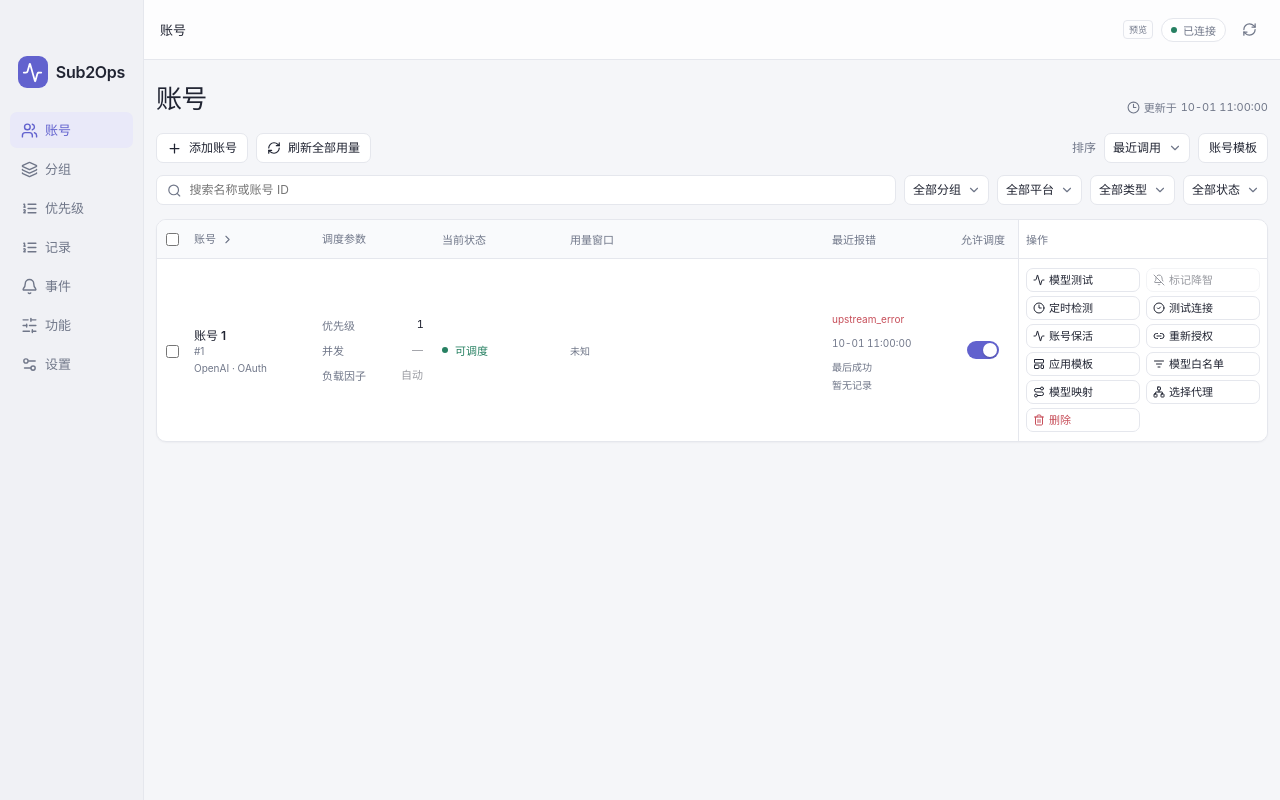
Test: main page surface ownership › unmounts records and events surfaces across repeated navigation
Click the button "记录" at (72, 247), box 10,229 -> 133,265
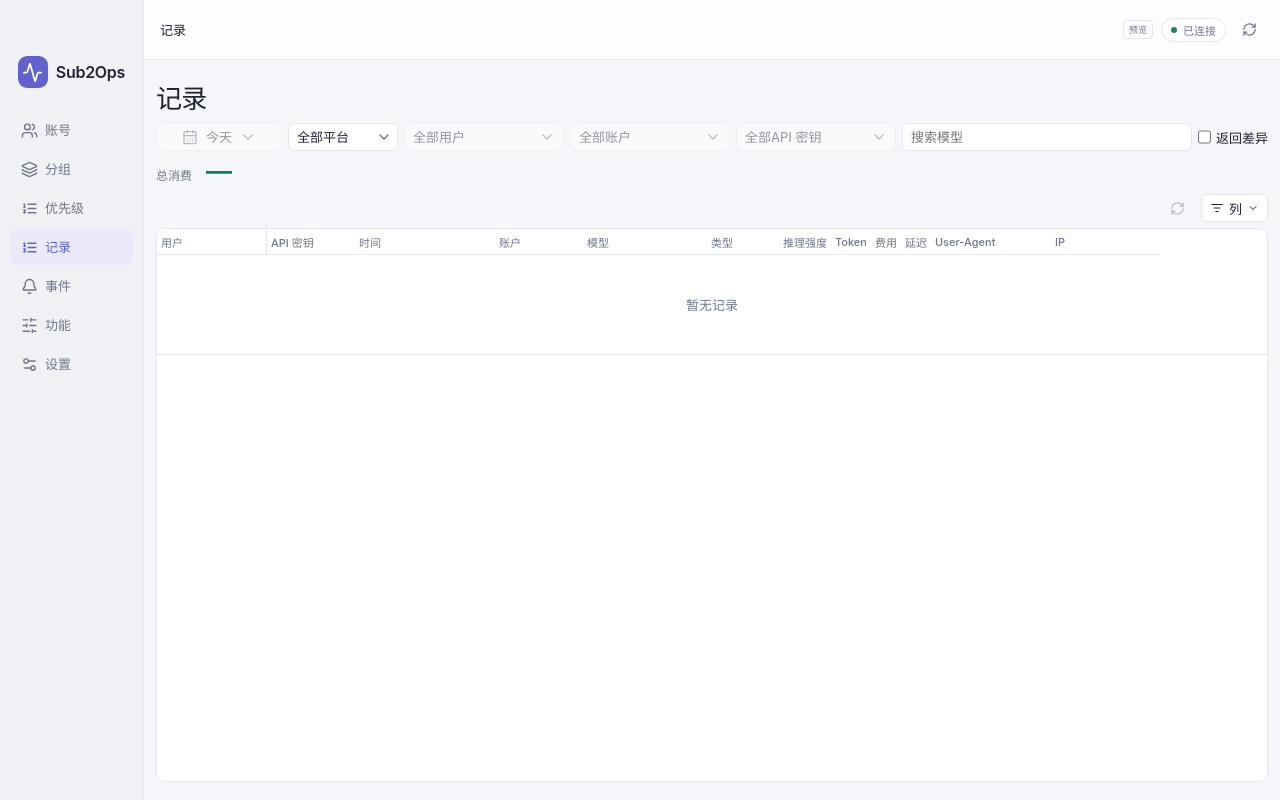
Expected: the number of elements with class "records-view" is 1
Click the button "事件" at (72, 286), box 10,268 -> 133,304
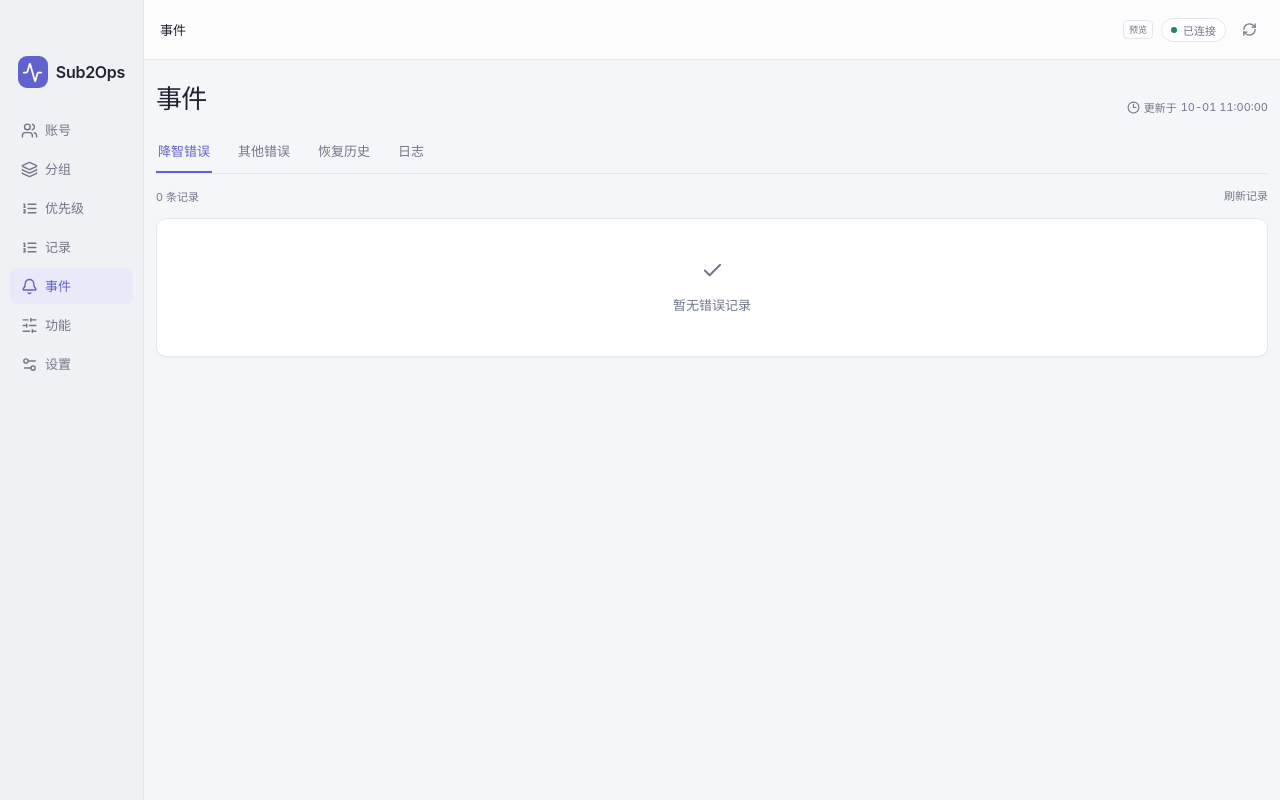
Expected: no elements with class "records-view" are shown
Expected: the number of elements with class "events-view" is 1, 156,133 -> 1268,357
Click the button "账号" at (72, 130), box 10,112 -> 133,148
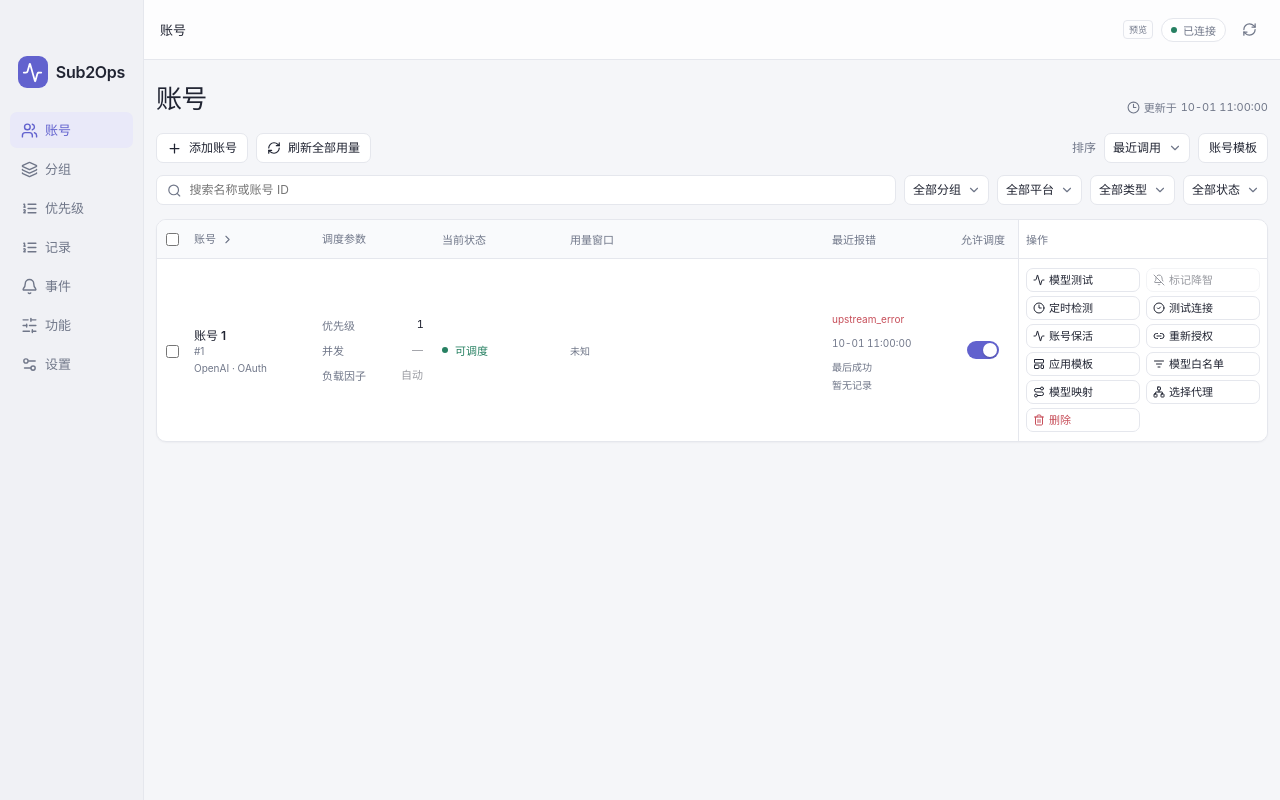
Expected: no elements with class "events-view" are shown
Click the button "记录" at (72, 247), box 10,229 -> 133,265
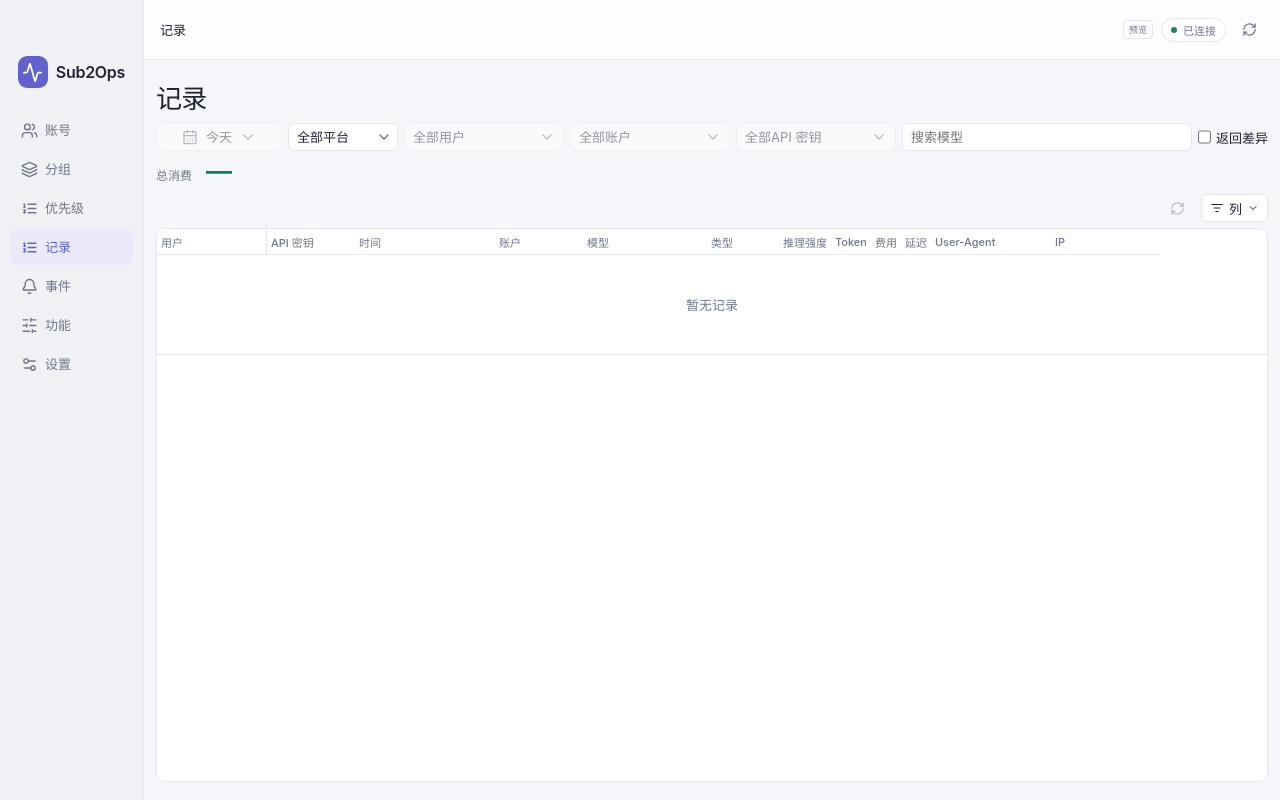
Expected: the number of elements with class "records-view" is 1
